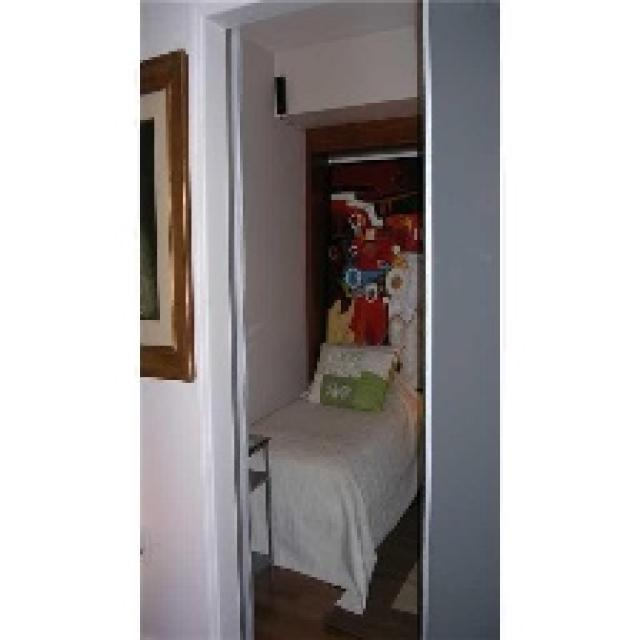Bed: (246, 352, 423, 614)
